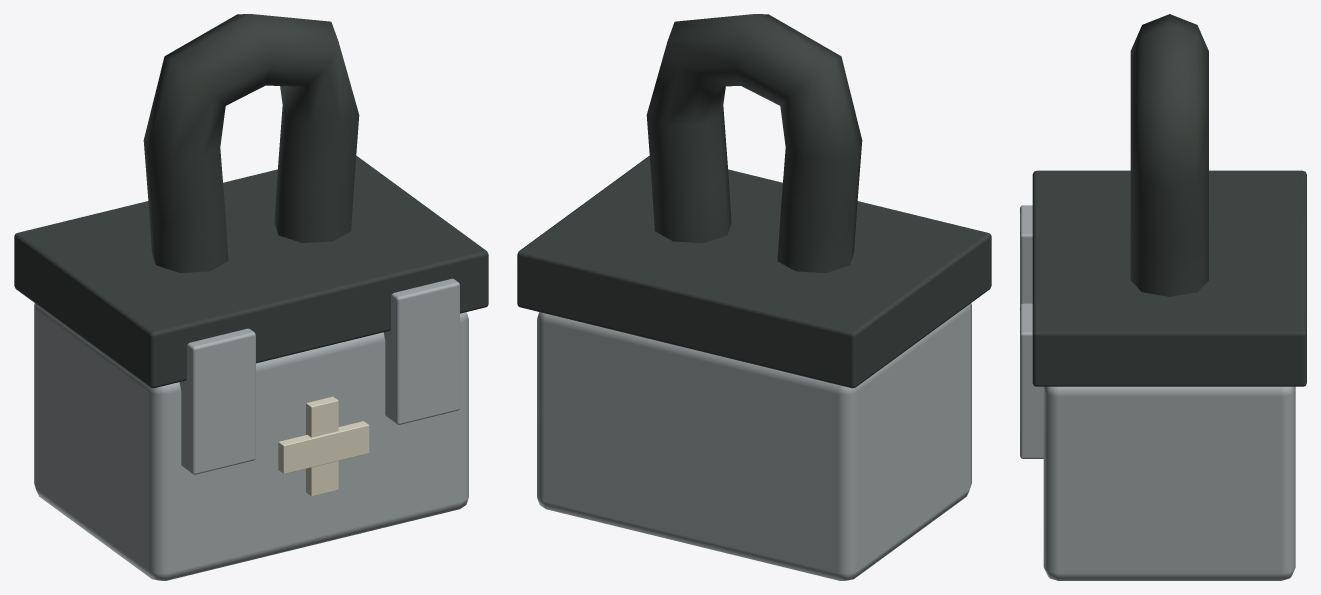
The model's file is field-medicine-and-recovery-dressing-tin-e1f017f2__3036.glb.
The picture shows the model from 3 angles, left to right: view 1: azimuth 30°, elevation 25°; view 2: azimuth 150°, elevation 25°; view 3: azimuth 270°, elevation 25°; orthographic projection.
Parts seen in each view (by area): view 1: dressing-tin, lid/dark; view 2: dressing-tin, lid/dark; view 3: dressing-tin, lid/dark.
Boxes of the visible parts, left/top/right/bottom form: dressing-tin: left=34, top=14, right=468, bottom=580; lid/dark: left=14, top=156, right=488, bottom=388; dressing-tin: left=537, top=14, right=971, bottom=580; lid/dark: left=517, top=156, right=991, bottom=388; dressing-tin: left=1020, top=14, right=1295, bottom=580; lid/dark: left=1032, top=170, right=1306, bottom=386.
Bounding box in the file's own units: 0.138 × 0.1908 × 0.1025.
